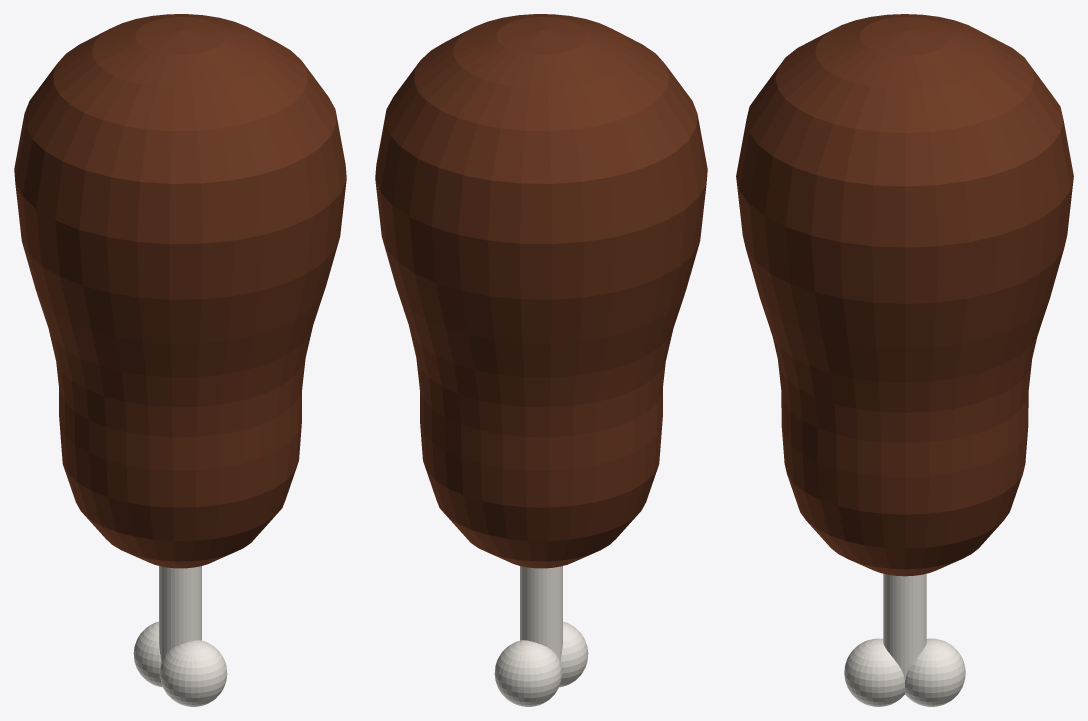
Rendered from CookedChicken.fbx.
3 renders of one model, left to right at view 1: azimuth 30°, elevation 25°; view 2: azimuth 150°, elevation 25°; view 3: azimuth 270°, elevation 25°, orthographic.
Visible parts, largest first — view 1: Sphere.002; view 2: Sphere.002; view 3: Sphere.002.
Boxes of the visible parts, x1=… form: Sphere.002: x1=14, y1=14, x2=346, y2=706; Sphere.002: x1=375, y1=14, x2=707, y2=706; Sphere.002: x1=736, y1=14, x2=1073, y2=706.
Size of the model in its own units: 12.73 by 27.97 by 12.73.
